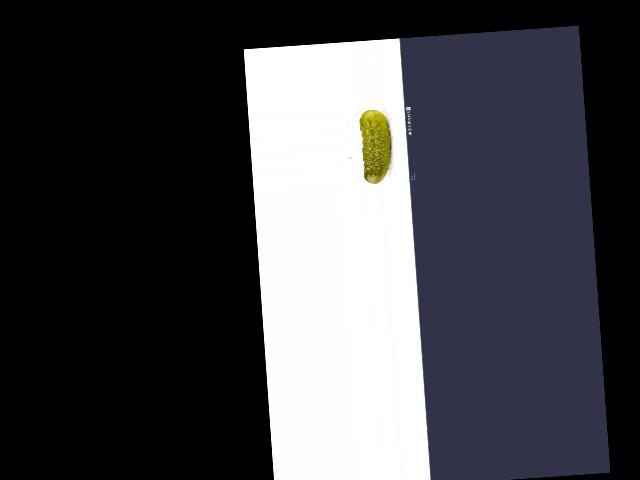cucumber: (359, 108, 394, 185)
